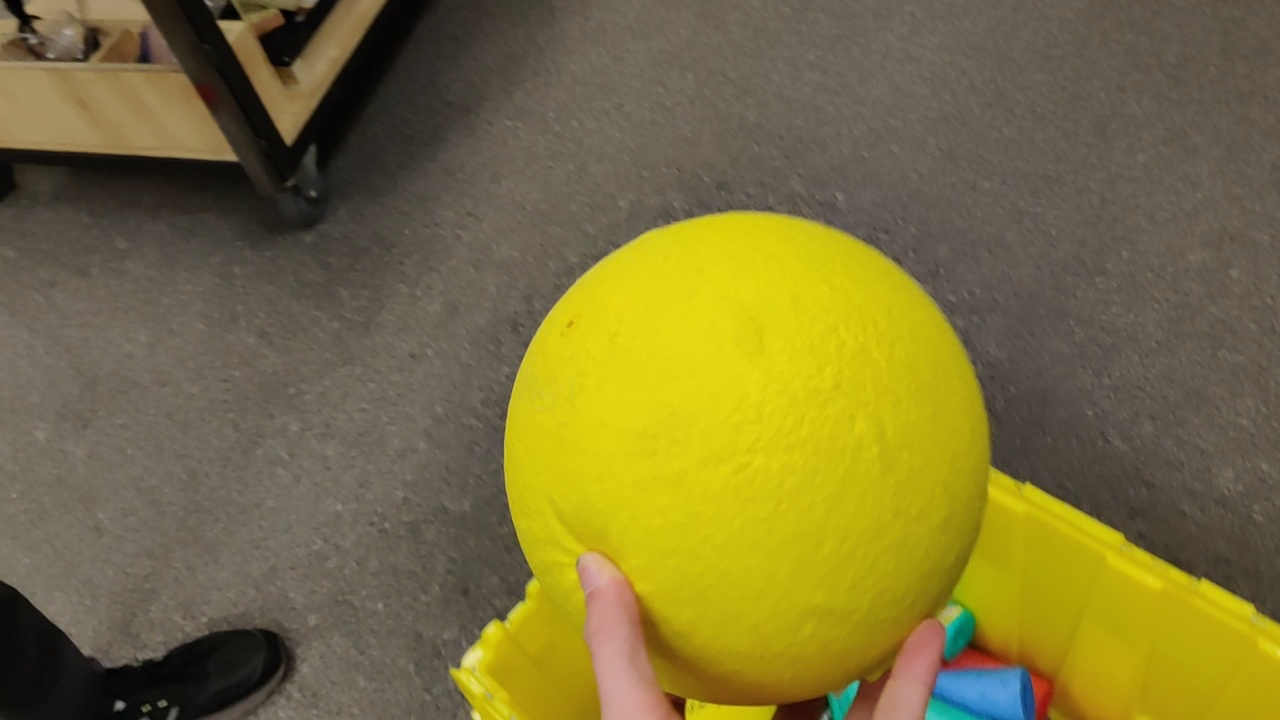Ball: (505, 207, 988, 701)
